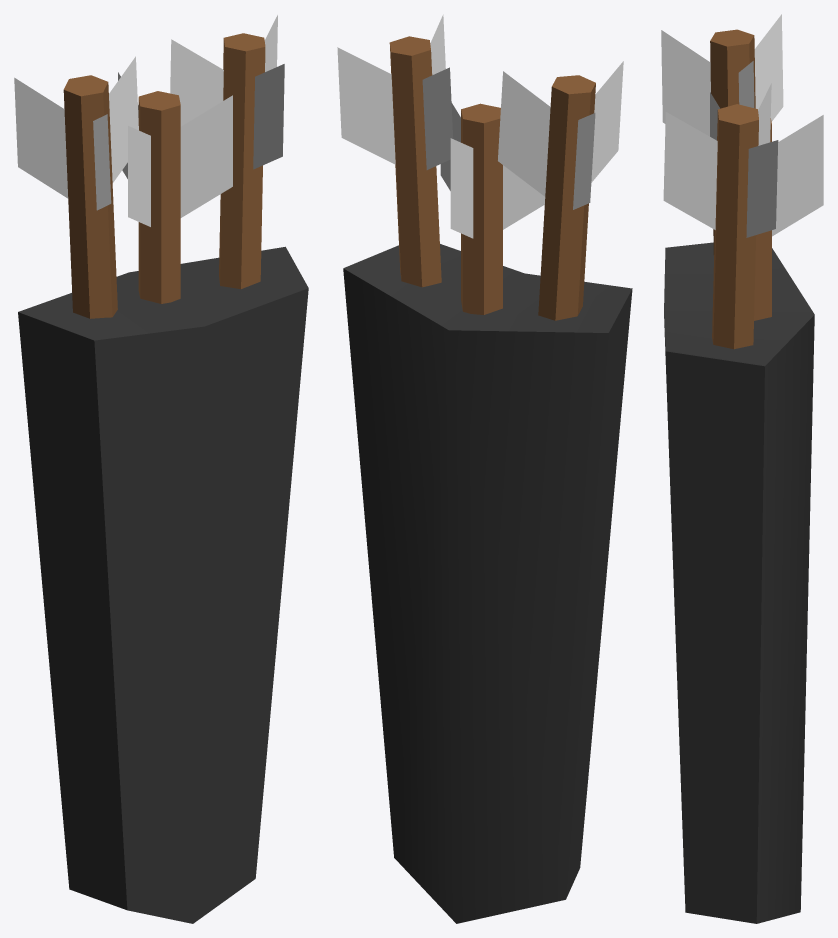
The model's file is arrow-box.fbx.
3 views of the same model, side by side, from view 1: azimuth 30°, elevation 25°; view 2: azimuth 150°, elevation 25°; view 3: azimuth 270°, elevation 25° (orthographic).
Parts seen in each view (by area): view 1: Weapon13.001; view 2: Weapon13.001; view 3: Weapon13.001.
Part boxes in pixels (x1,y1,x2,y2): Weapon13.001: (14, 15, 308, 923); Weapon13.001: (337, 14, 632, 923); Weapon13.001: (661, 14, 823, 923).
Bounding box in the file's own units: 23.77 × 71.96 × 12.62.
